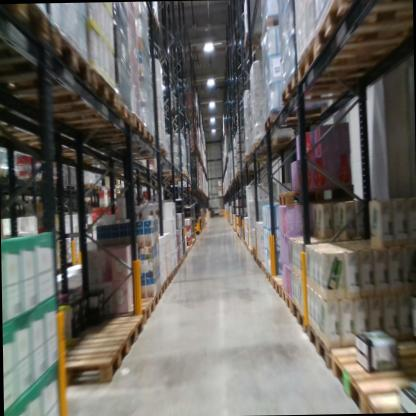pallet: (272, 186, 362, 298), (0, 16, 93, 104), (295, 28, 402, 88), (328, 339, 416, 411), (5, 67, 118, 120), (32, 85, 136, 132), (315, 0, 413, 46), (44, 105, 149, 142), (60, 333, 130, 385), (282, 65, 362, 106), (305, 317, 356, 378), (0, 7, 55, 59), (76, 311, 145, 351), (86, 127, 162, 156), (366, 385, 416, 413), (265, 106, 330, 127), (117, 295, 156, 324), (252, 133, 296, 152), (259, 13, 284, 44), (242, 150, 282, 166), (124, 147, 169, 161), (291, 300, 308, 333), (241, 33, 266, 54), (155, 166, 185, 179), (282, 287, 294, 317), (157, 277, 168, 297), (150, 288, 162, 306), (264, 265, 273, 285), (166, 269, 174, 287), (256, 254, 267, 267), (81, 181, 95, 191), (170, 264, 178, 280), (252, 247, 260, 258), (260, 262, 266, 276), (175, 260, 182, 271), (94, 183, 102, 190), (179, 254, 184, 265), (252, 254, 257, 263), (247, 246, 252, 255)
